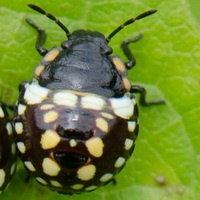insect: (0, 113, 164, 199), (110, 10, 167, 55)
